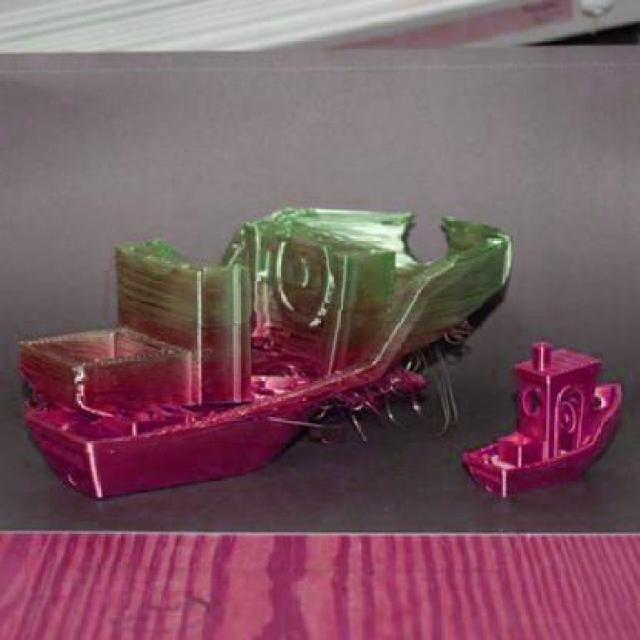spaghetti: (301, 350, 430, 444), (433, 343, 459, 437), (249, 327, 291, 353), (443, 319, 477, 345), (23, 390, 51, 413)
